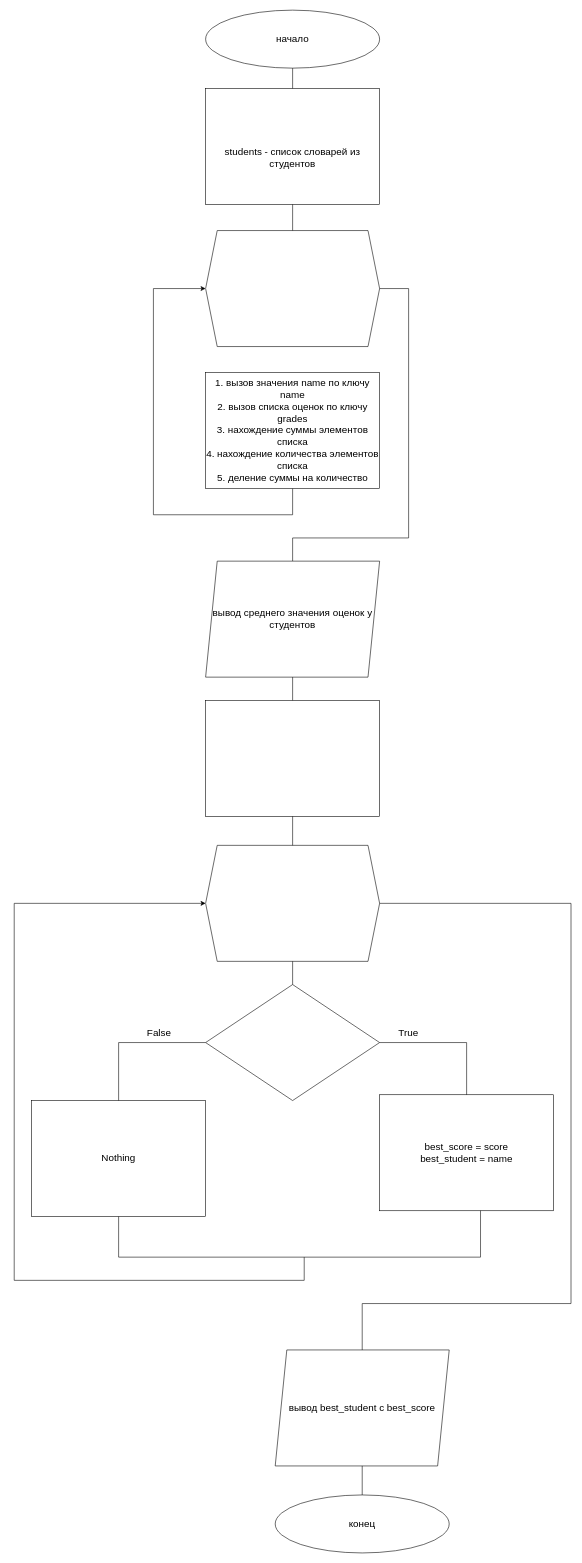
The diagram is 582 pixels wide and 1563 high, and some of its shapes have lost their labels. The centre of each missing label's shape, as x and y in pixels:
best_score - лучший балл best_student - лучший студент: the point at 292,758
score > best_score: the point at 292,1042
перебор пар(имя - name, средний балл - score), в словаре averages: the point at 292,903
проход по списку students: the point at 292,288
